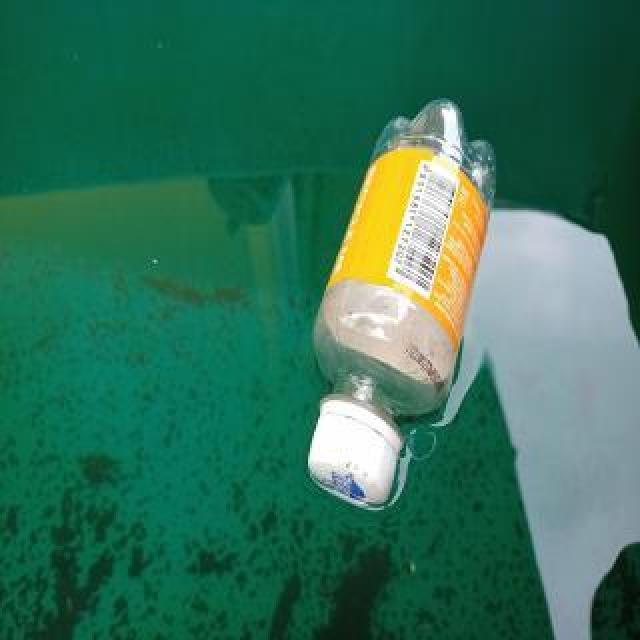bottle: (306, 94, 498, 512)
